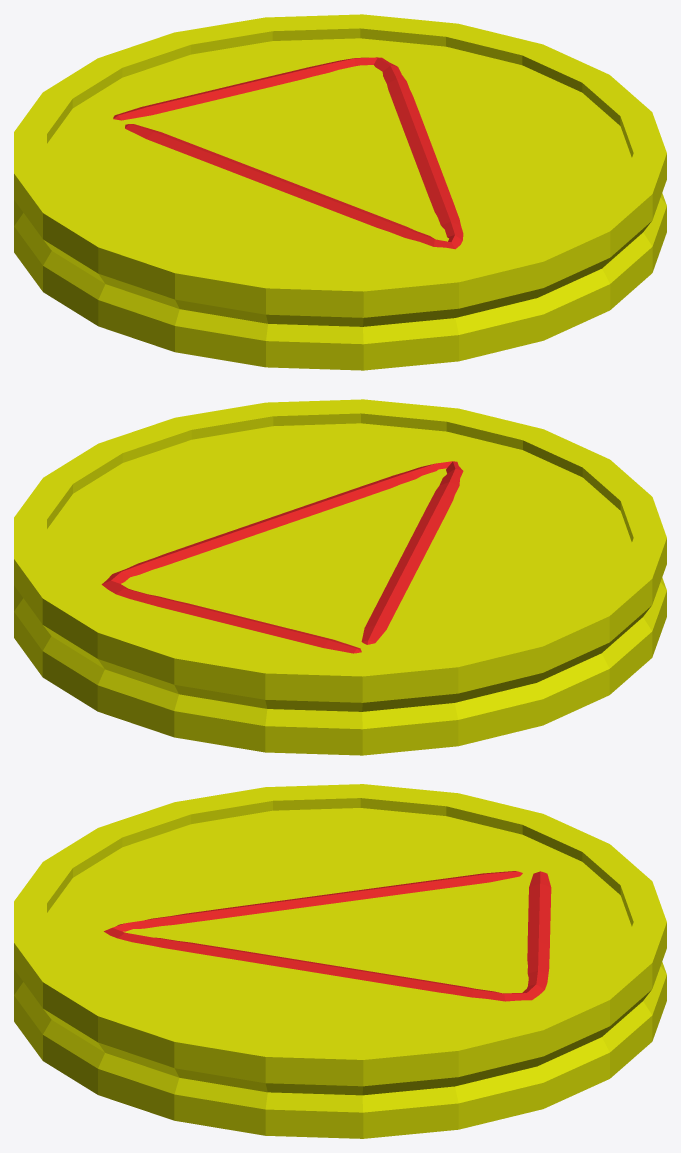
Rendered from coin-6-1.fbx.
The picture shows the model from 3 angles, top to bottom: view 1: azimuth 30°, elevation 25°; view 2: azimuth 150°, elevation 25°; view 3: azimuth 270°, elevation 25°; orthographic projection.
Visible parts, largest first — view 1: Plane.026; view 2: Plane.026; view 3: Plane.026.
Boxes of the visible parts, left/top/right/bottom form: Plane.026: left=14, top=14, right=666, bottom=370; Plane.026: left=14, top=399, right=666, bottom=755; Plane.026: left=14, top=784, right=666, bottom=1138.
Size of the model in its own units: 3 by 0.4 by 3.
